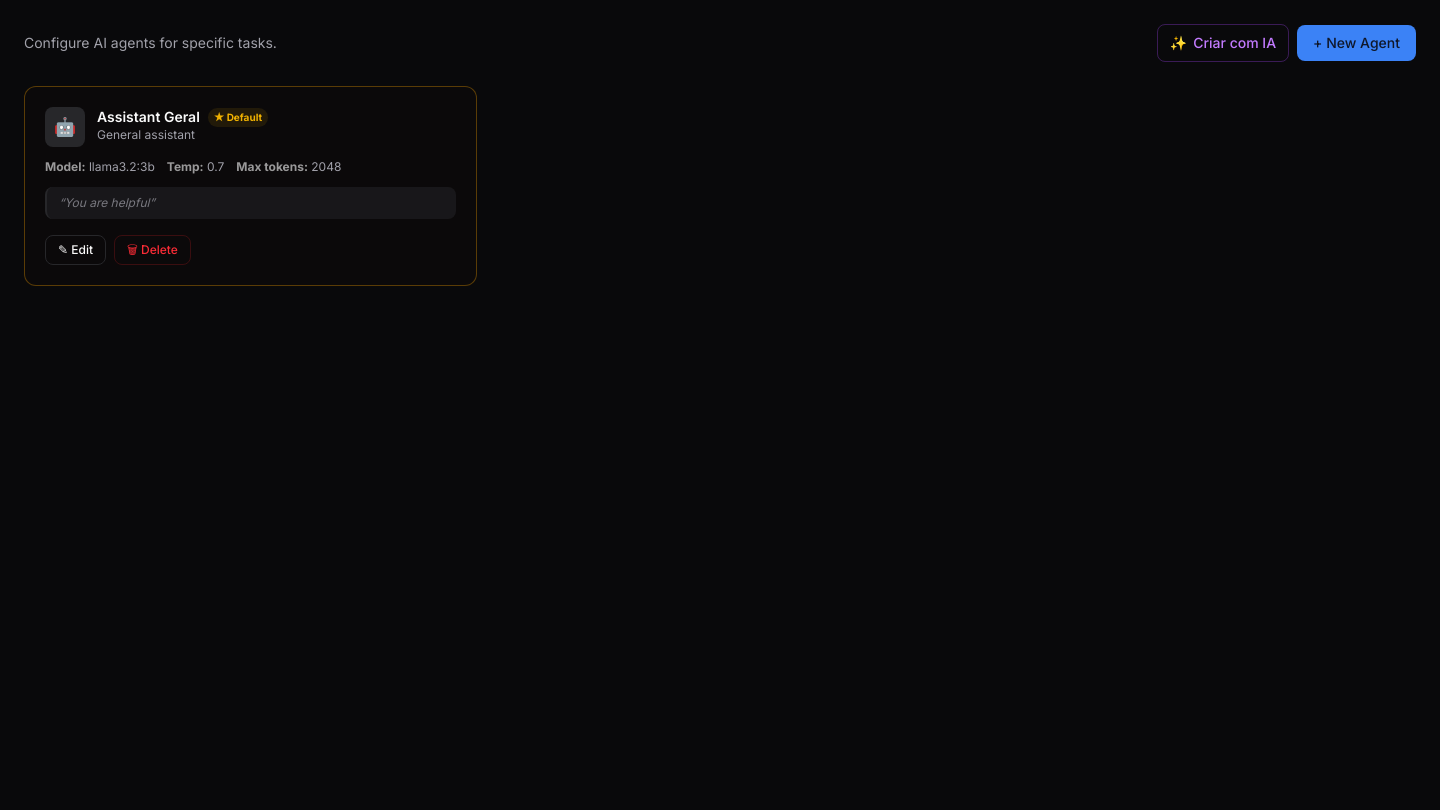
AgentsPanel › opens create dialog on button click
Expected: the heading "Assistant Geral" is shown, x1=97 y1=107 x2=200 y2=127
Click the button "+ New Agent".
click(1357, 43)  # box x1=1297 y1=25 x2=1416 y2=61
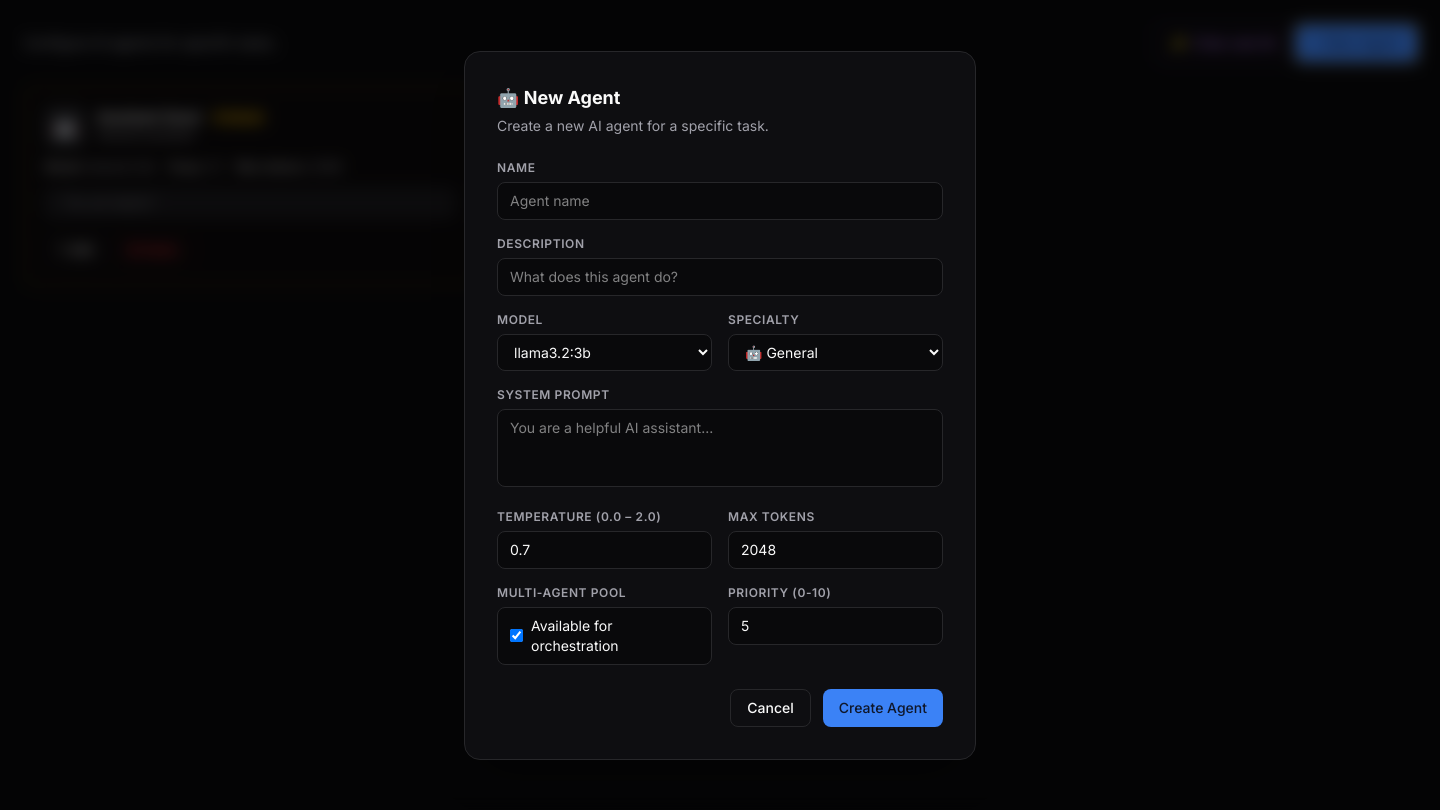
Expected: the heading "🤖 New Agent" is shown, x1=497 y1=86 x2=620 y2=108
